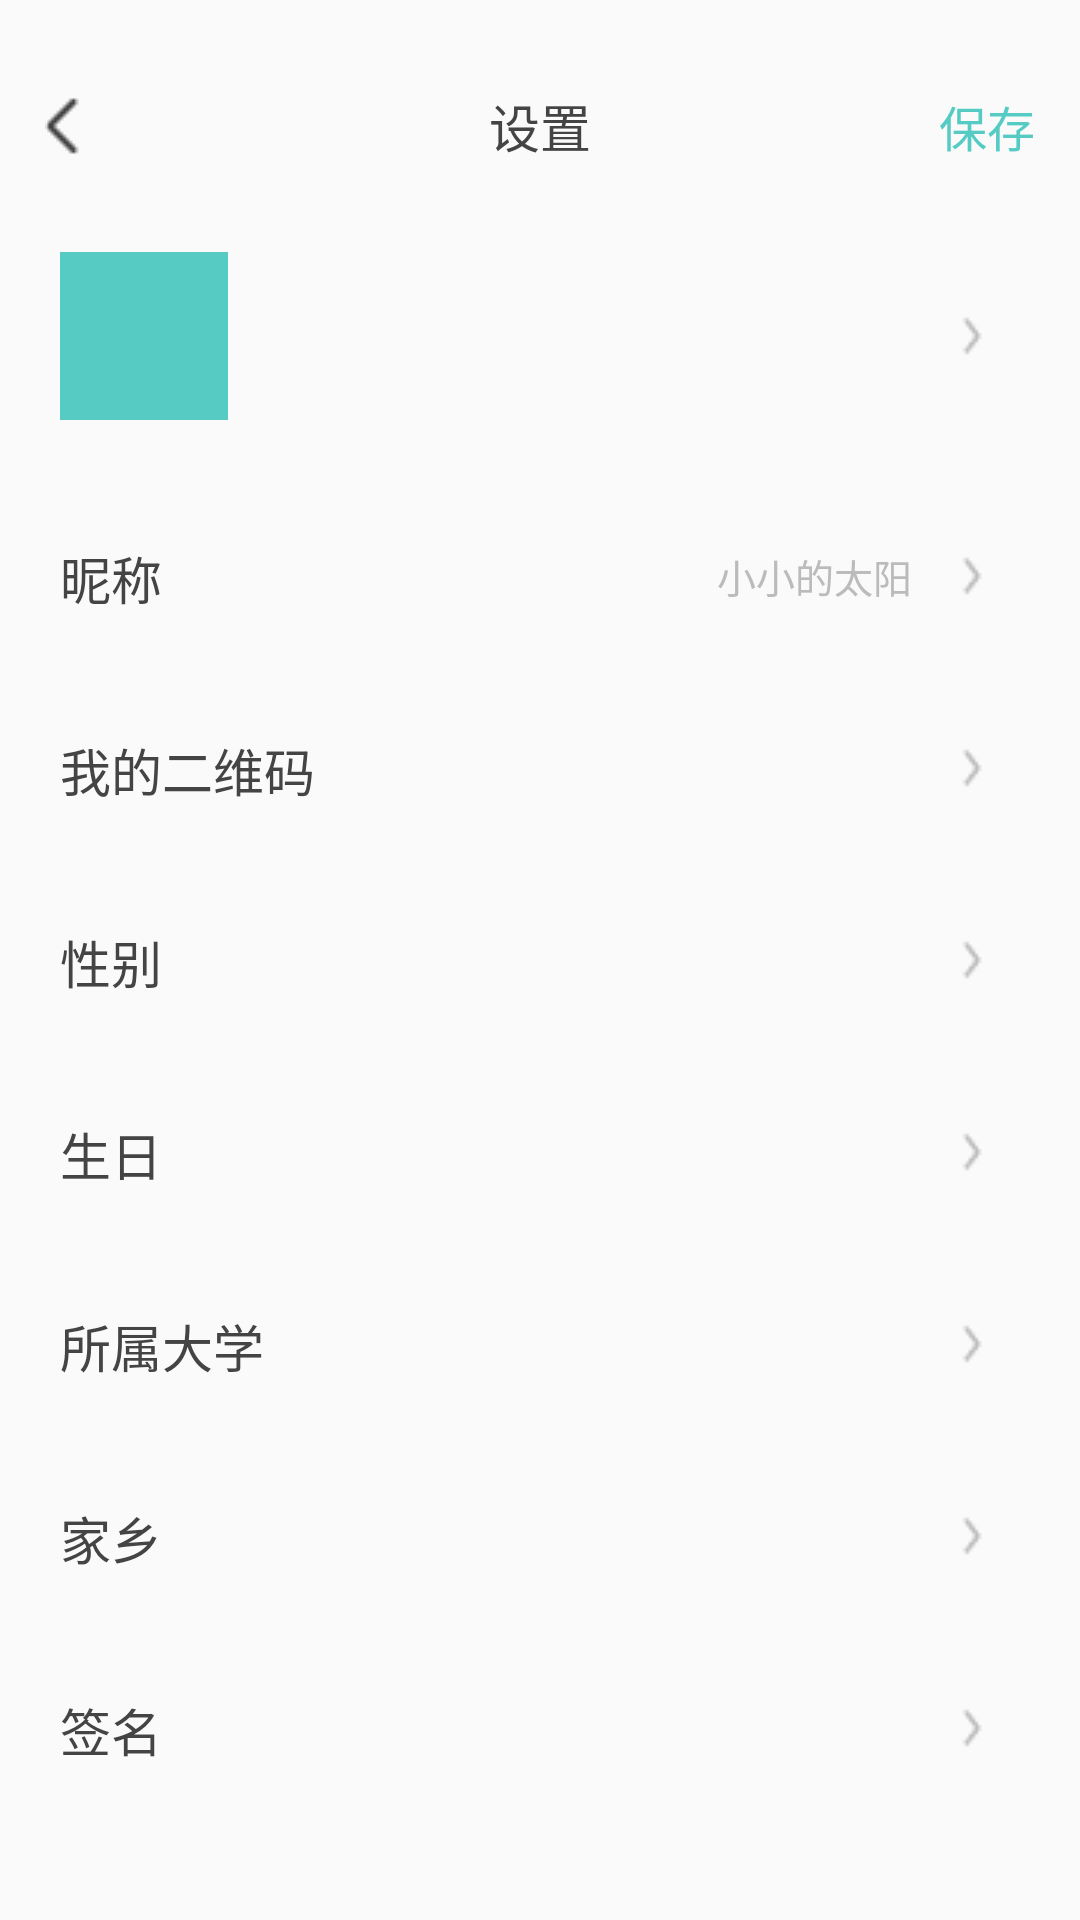

Named icons in this screenshot (1080px x 1920px) and their bounding boxes, (x1, y1, x2, y2):
src login left: (45, 98, 78, 154)
src mine setting next: (965, 318, 980, 354), (965, 558, 980, 594), (965, 750, 980, 786), (965, 942, 980, 978), (965, 1134, 980, 1170), (965, 1326, 980, 1362), (965, 1518, 980, 1554), (965, 1710, 980, 1746)
